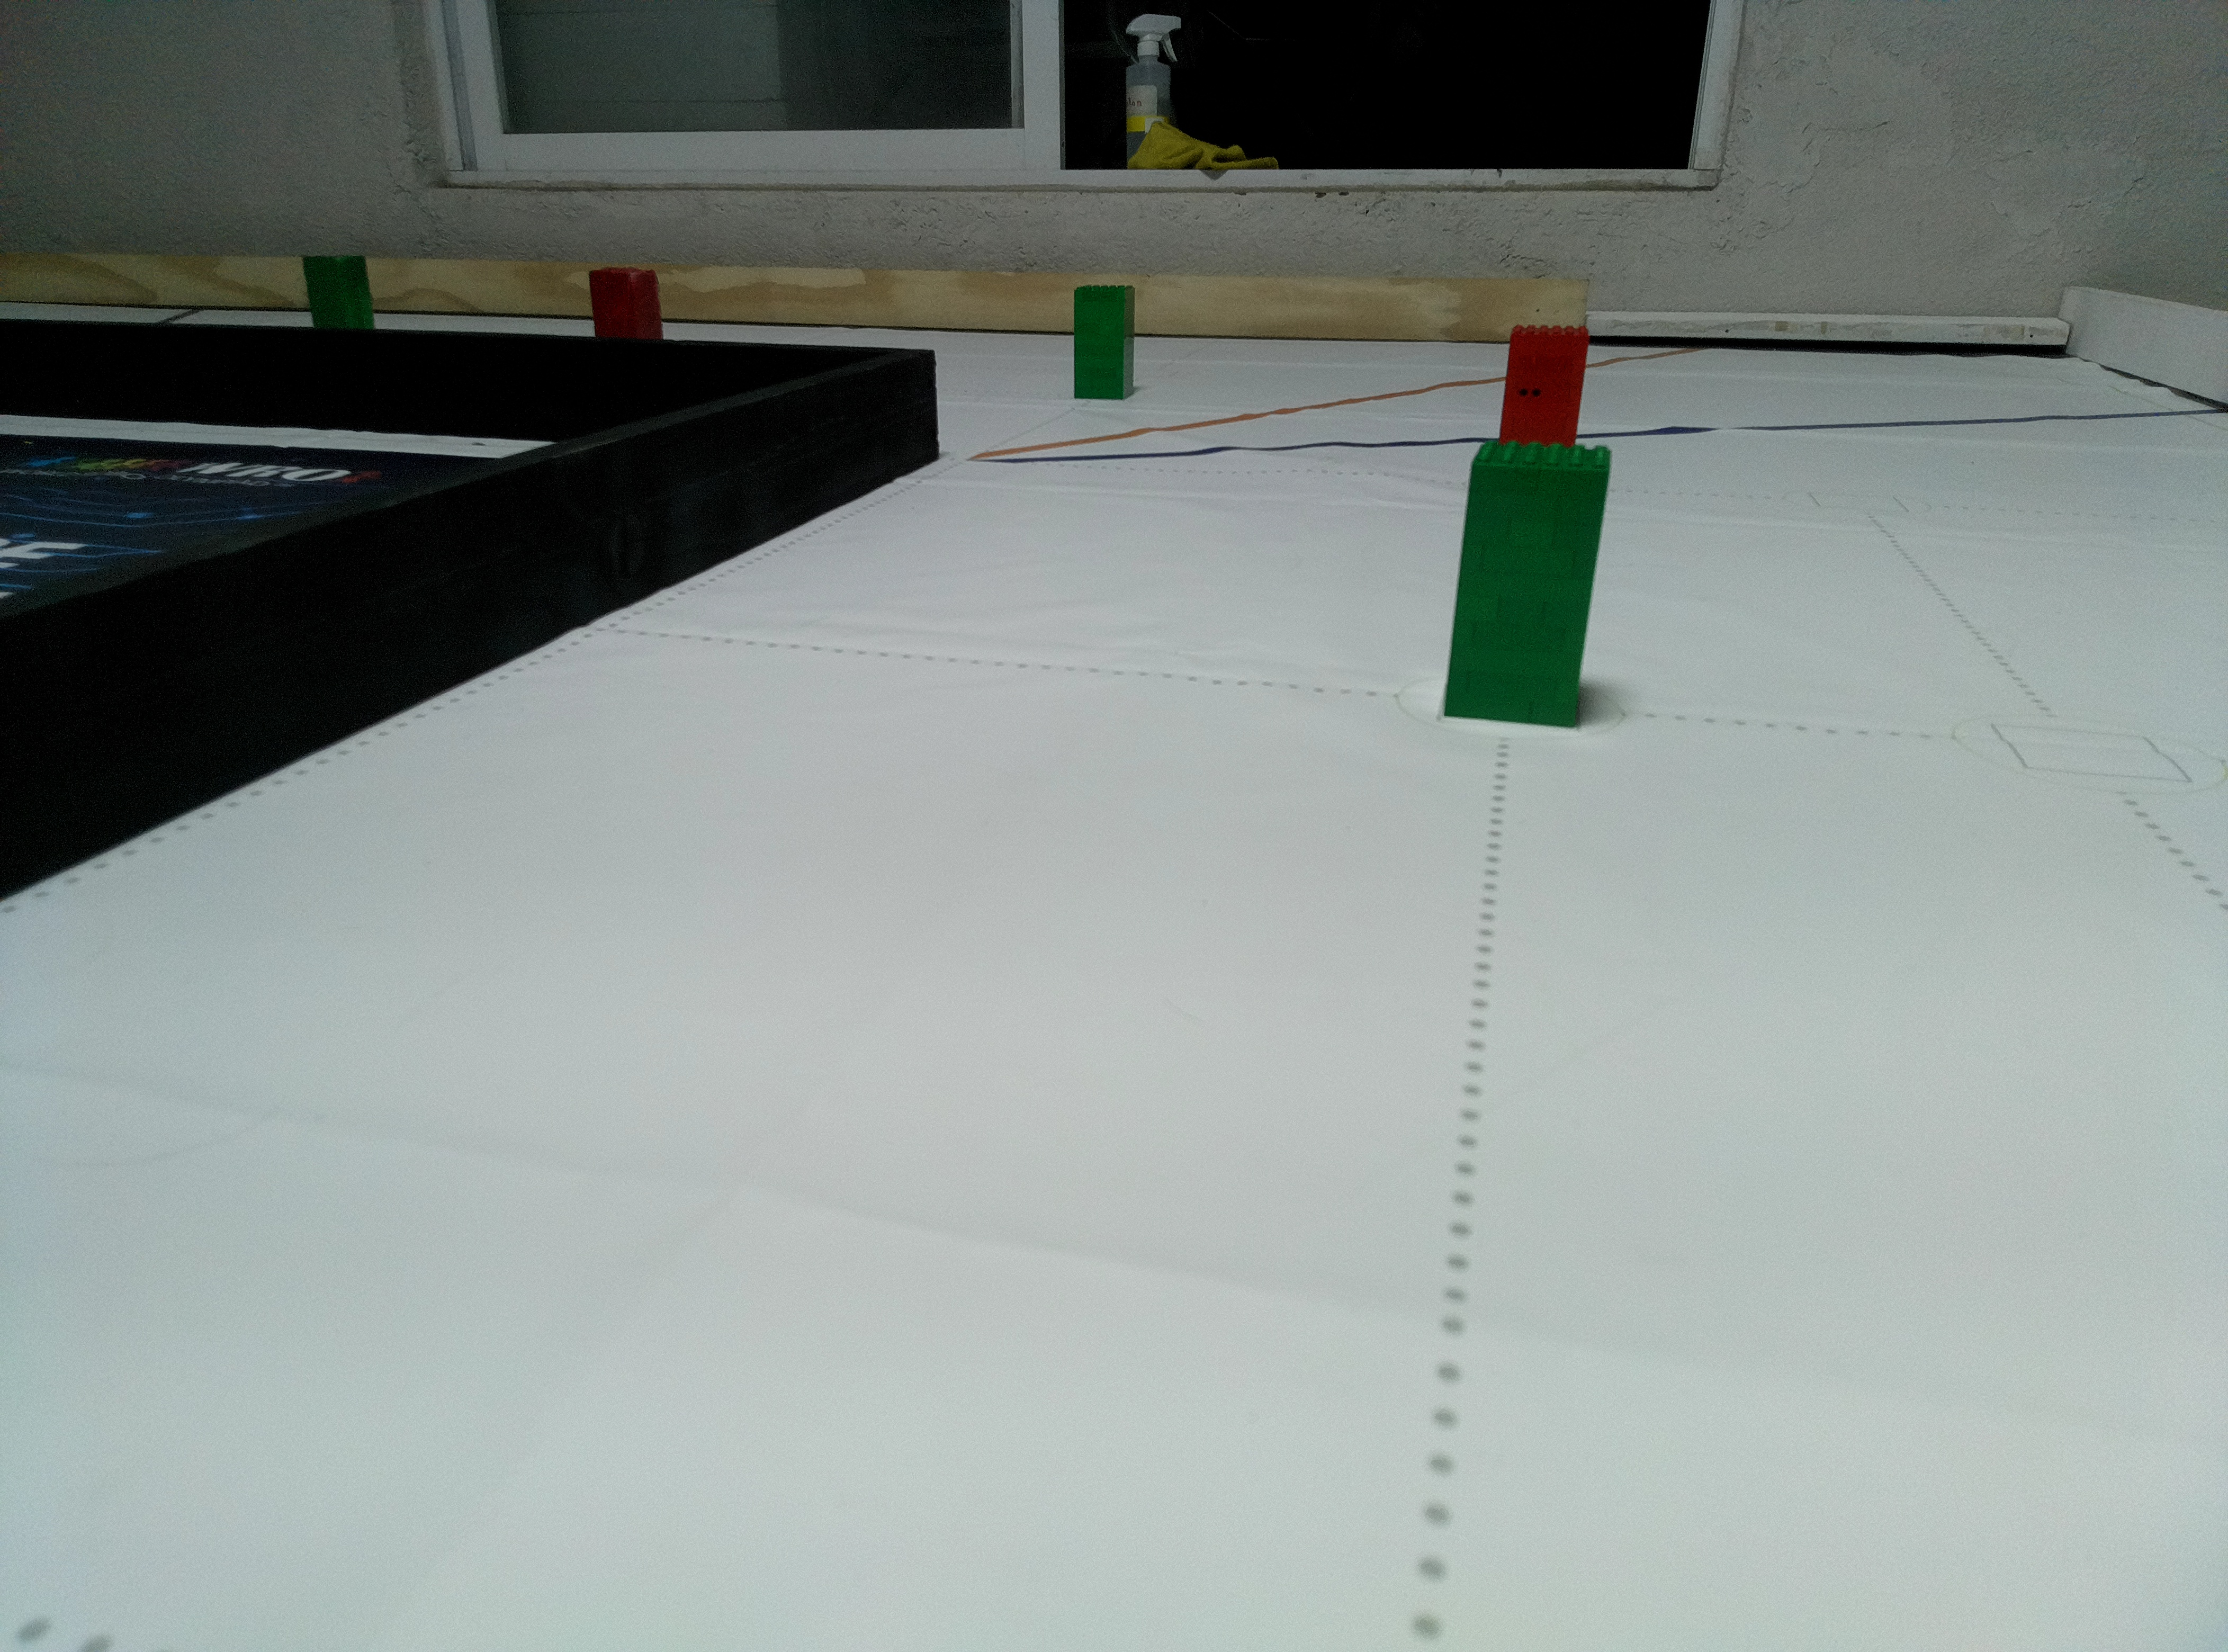greenbox: (1438, 439, 1614, 732), (1072, 283, 1137, 403), (298, 253, 378, 328)
redbox: (1497, 321, 1593, 444), (586, 265, 666, 342)
